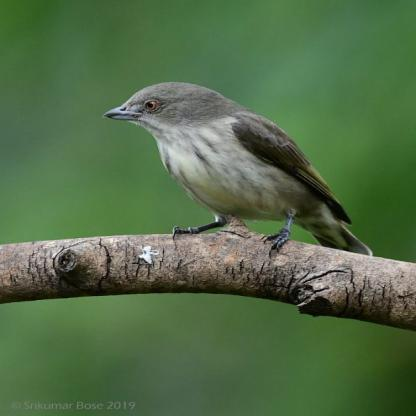Burung: (97, 78, 380, 258)
